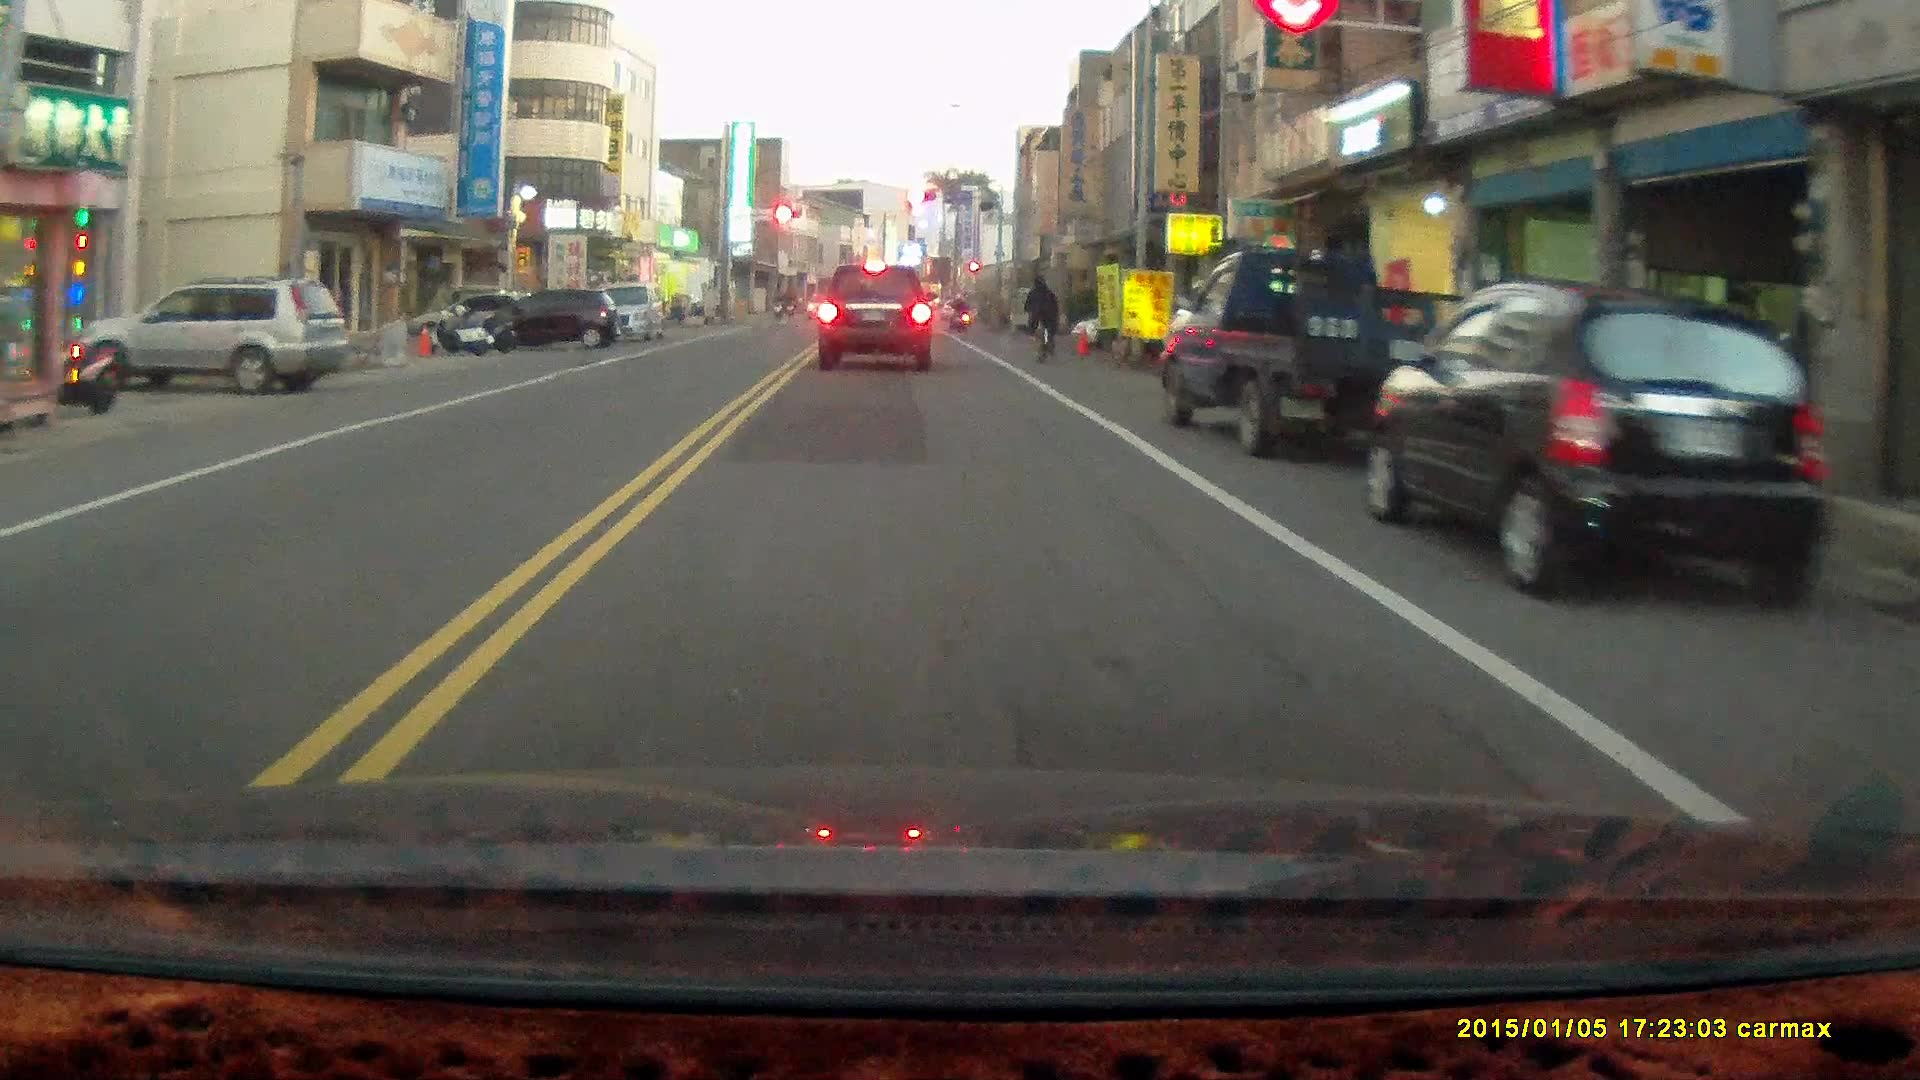rider: (1021, 269, 1064, 369)
vehicle: (1370, 281, 1820, 609), (1164, 245, 1471, 452), (80, 270, 352, 406), (817, 260, 935, 375), (484, 289, 629, 352), (571, 277, 669, 346)
